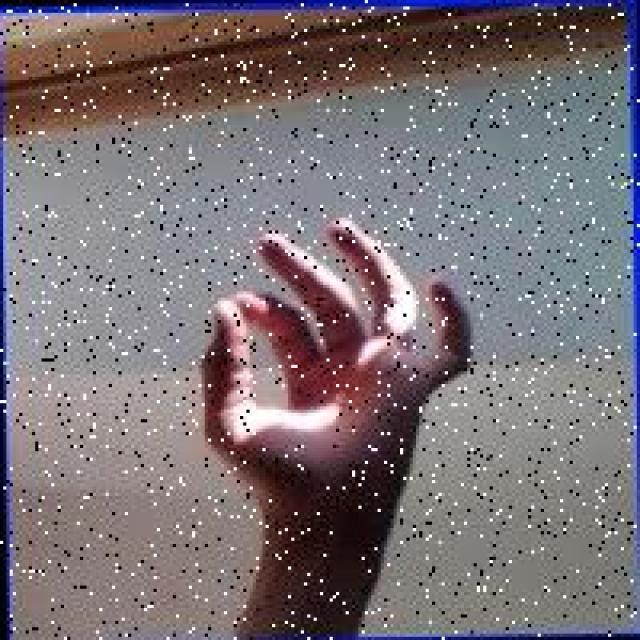F: (189, 211, 480, 515)
